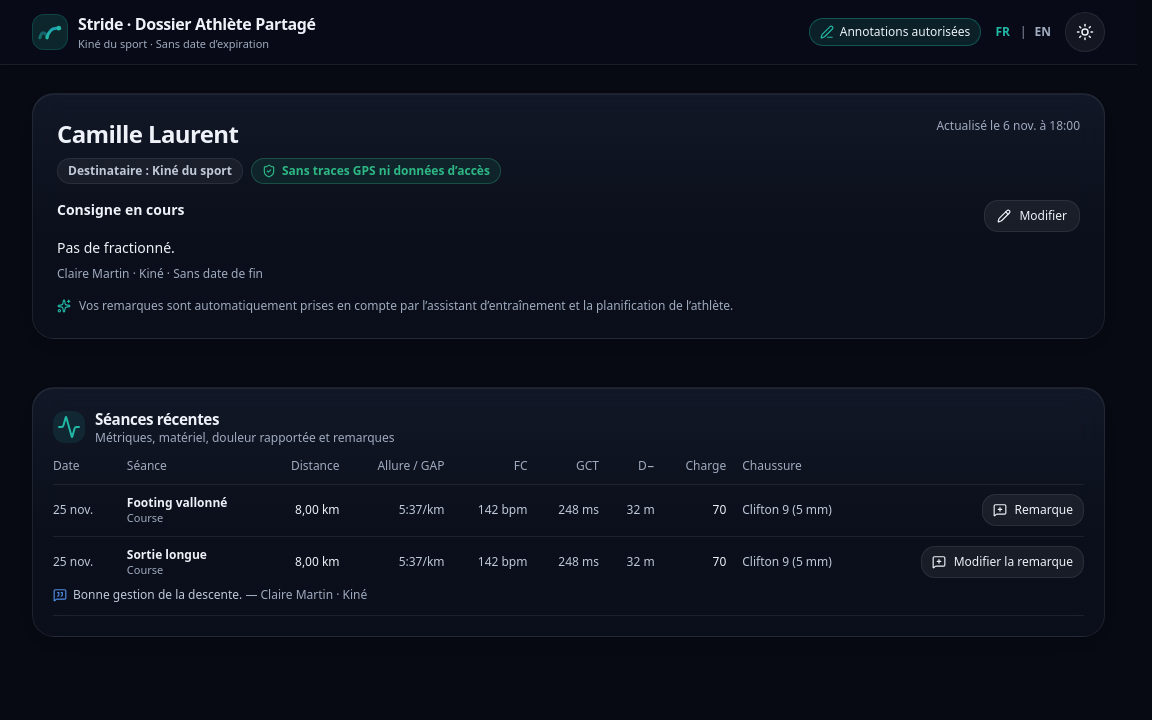
Test case: Share portal (§15.1) › edits the directive inline on desktop
Later steps or results of the test are not shown.
Click the button "Modifier" at (1032, 216), box [984, 200, 1080, 232]
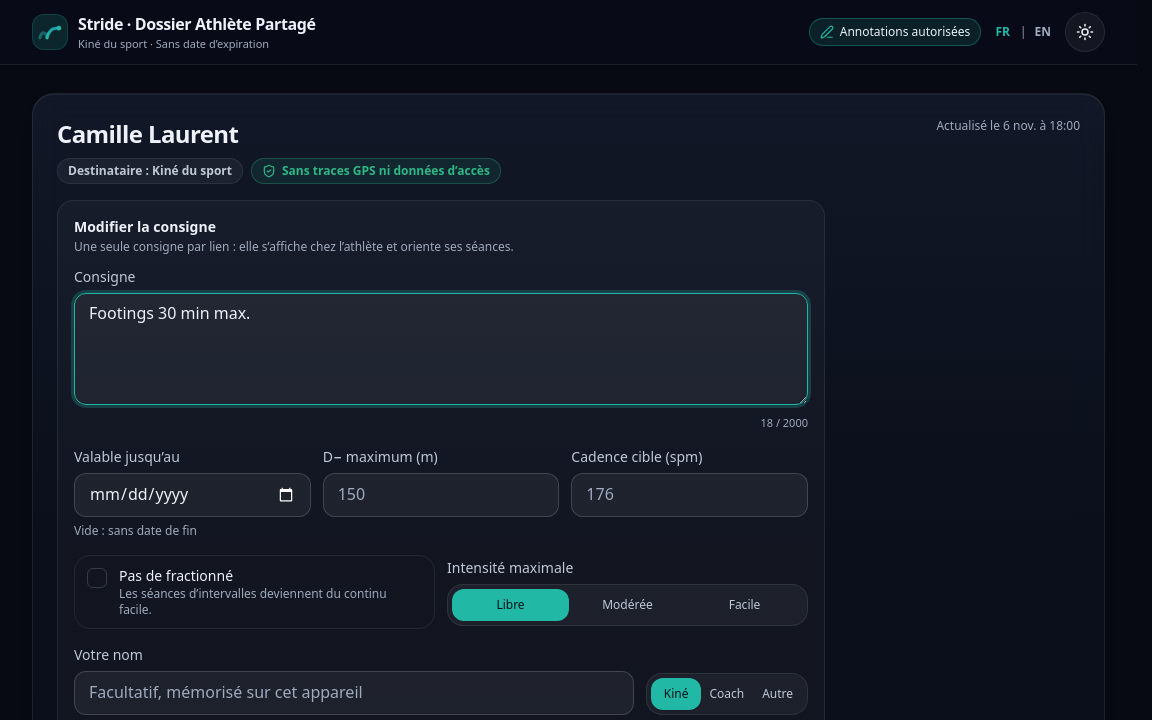
Now the text box labelled "Consigne" is shown, box [74, 293, 808, 405]
